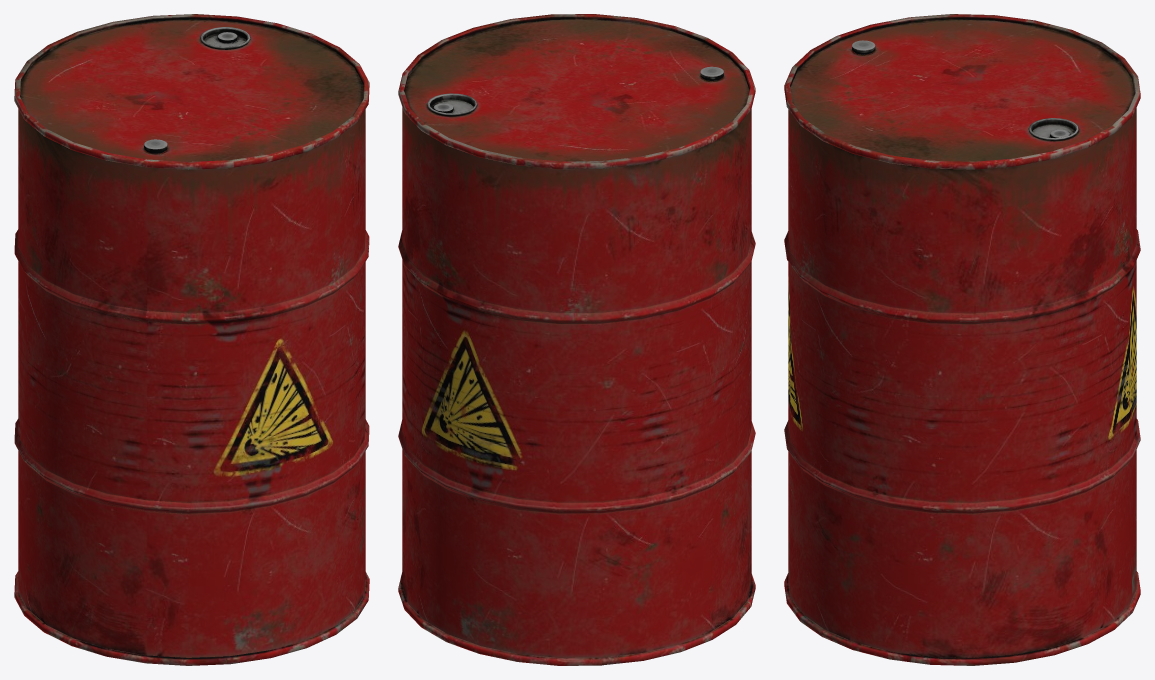
The model's file is Barrel_01.fbx.
3 views of the same model, side by side, from view 1: azimuth 30°, elevation 25°; view 2: azimuth 150°, elevation 25°; view 3: azimuth 270°, elevation 25° (orthographic).
Parts seen in each view (by area): view 1: Barrel_01; view 2: Barrel_01; view 3: Barrel_01.
Part boxes in pixels (<box>): Barrel_01: <box>14,14,369,665</box>; Barrel_01: <box>398,14,755,665</box>; Barrel_01: <box>784,14,1140,665</box>.
Size of the model in its own units: 56.3 by 88 by 56.3.
1 material, 1 textured.
